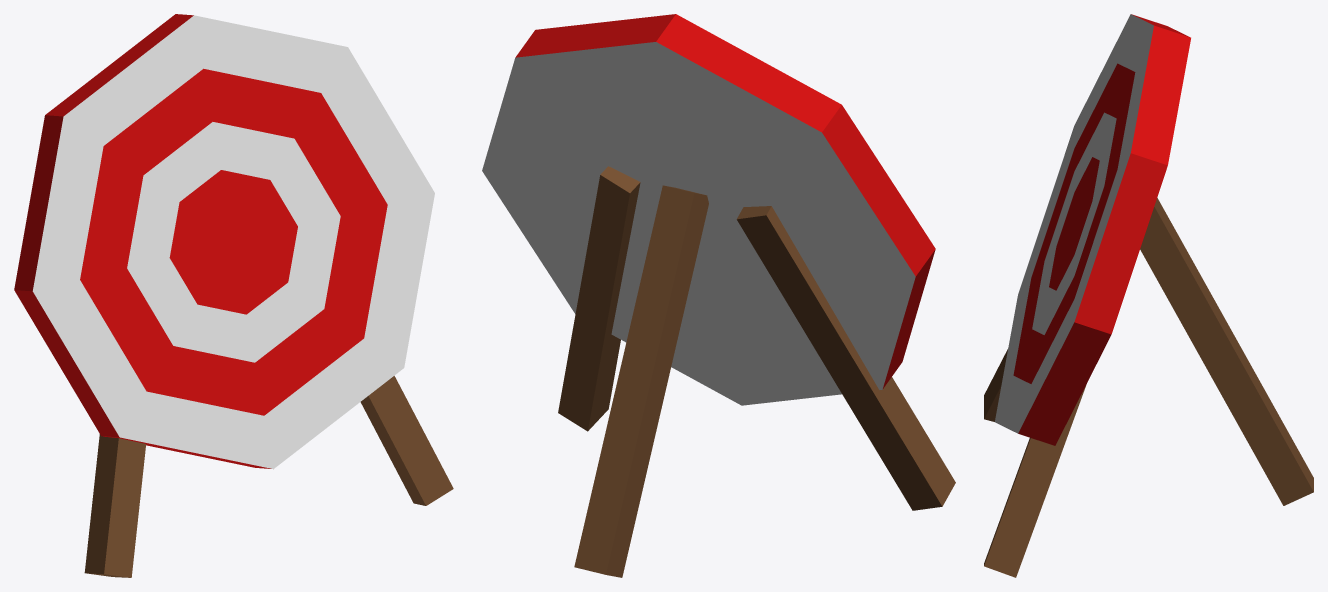
The model's file is practiceTarget.fbx.
3 renders of one model, left to right at view 1: azimuth 30°, elevation 25°; view 2: azimuth 150°, elevation 25°; view 3: azimuth 270°, elevation 25°, orthographic. The views are drawn at different scales.
Parts seen in each view (by area): view 1: Cylinder; view 2: Cylinder; view 3: Cylinder.
Boxes of the visible parts, <box> form: Cylinder: <box>14,14,453,577</box>; Cylinder: <box>482,14,955,577</box>; Cylinder: <box>984,14,1313,577</box>.
Size of the model in its own units: 316 by 356 by 224.
